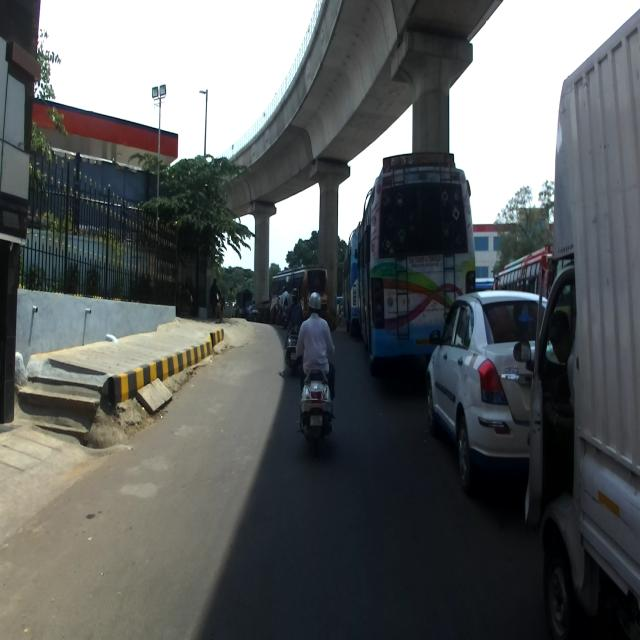bus ahead at: (369, 153, 470, 369)
car ahead at: (428, 285, 536, 485)
motorcycle ahead at: (290, 360, 342, 447)
stones ahead at: (18, 359, 108, 440)
truck ahead at: (518, 9, 640, 640)
